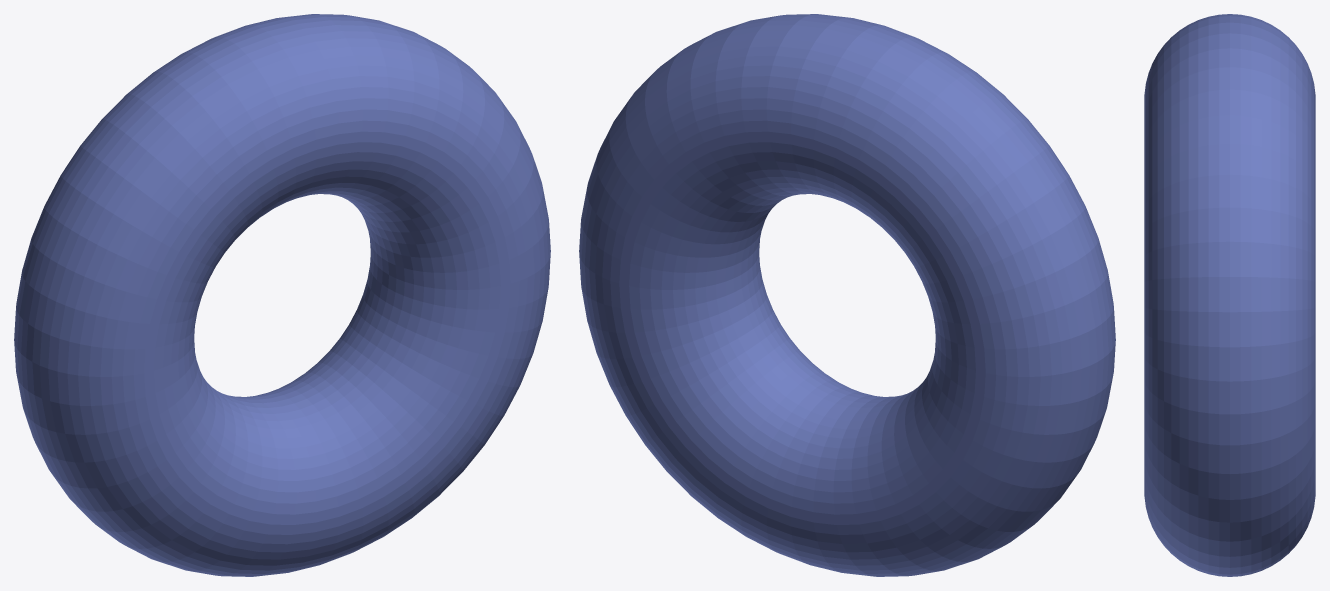
The picture shows the model from 3 angles, left to right: view 1: azimuth 30°, elevation 25°; view 2: azimuth 150°, elevation 25°; view 3: azimuth 270°, elevation 25°; orthographic projection. The views are drawn at different scales.
Parts seen in each view (by area): view 1: world; view 2: world; view 3: world.
Boxes of the visible parts, x1,y1,x2,y2 form: world: (14,14,550,576); world: (579,14,1115,576); world: (1144,14,1315,576).
Bounding box in the file's own units: 15.33 × 15.3 × 4.66.
